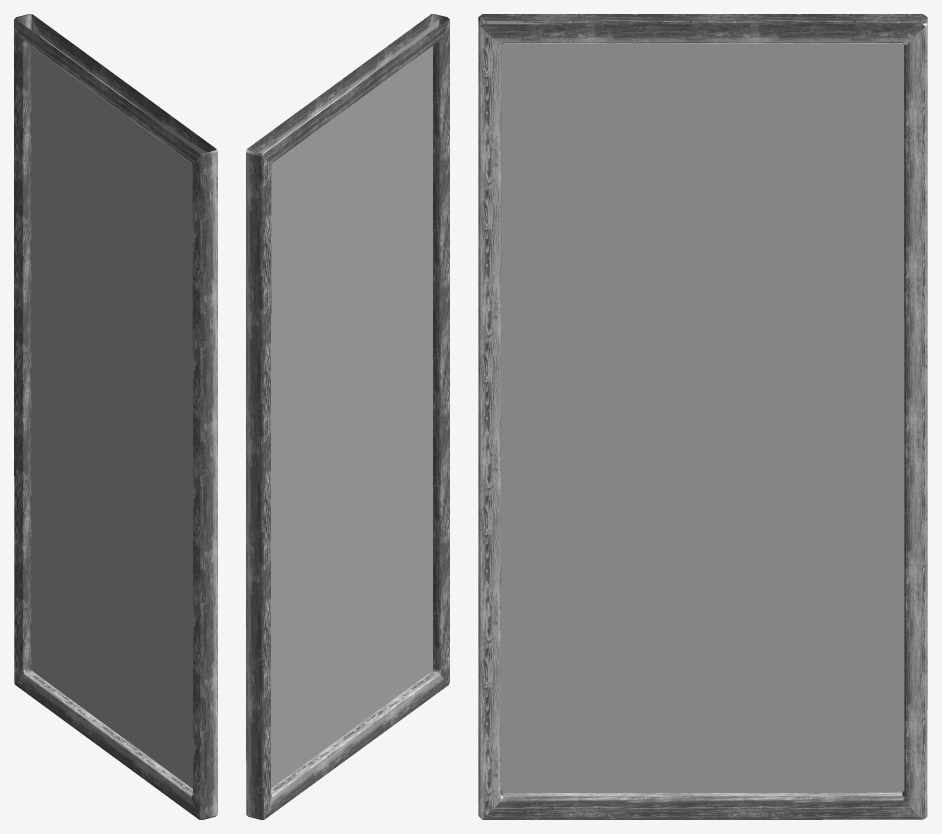
The model's file is SM_Door_Outside_B.fbx.
The picture shows the model from 3 angles, left to right: view 1: azimuth 30°, elevation 25°; view 2: azimuth 150°, elevation 25°; view 3: azimuth 270°, elevation 25°; orthographic projection. The views are drawn at different scales.
Visible parts, largest first — view 1: SM_Door_Outside_B_LOD0; view 2: SM_Door_Outside_B_LOD0; view 3: SM_Door_Outside_B_LOD0.
Part boxes in pixels (x1,y1,x2,y2): SM_Door_Outside_B_LOD0: (14,14,217,819); SM_Door_Outside_B_LOD0: (246,14,449,819); SM_Door_Outside_B_LOD0: (478,14,927,819).
Size of the model in its own units: 5.84 by 109 by 212.
2 materials, 1 textured.
